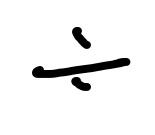div: (31, 27, 131, 91)
